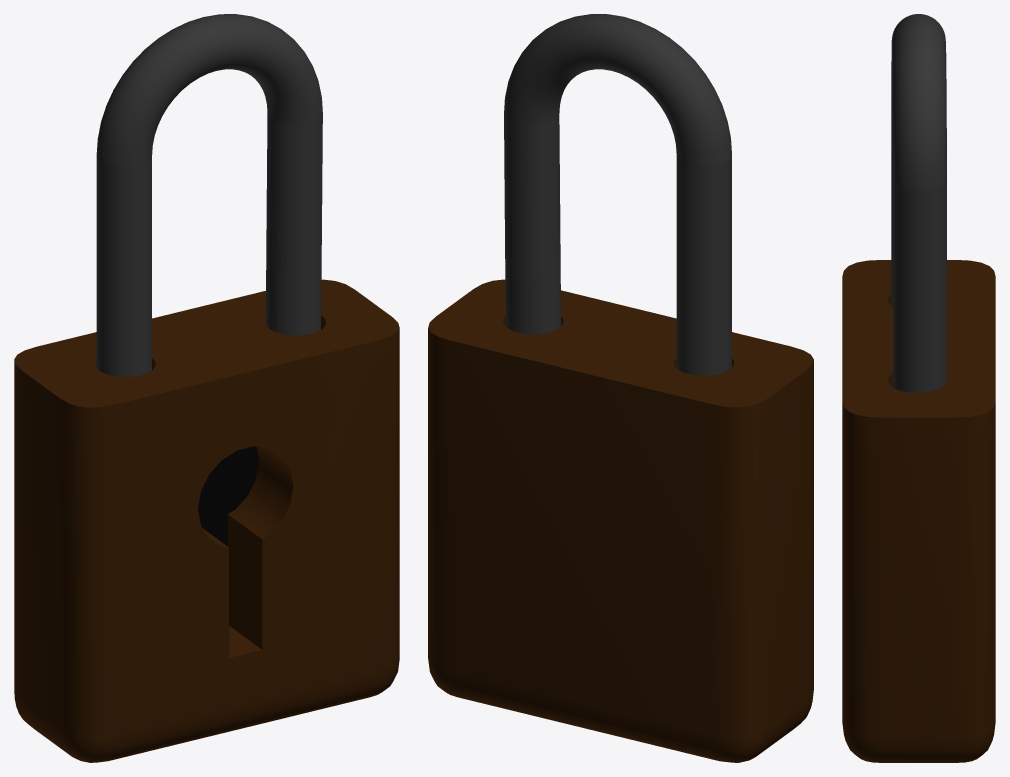
Rendered from Gold Lock improved.fbx.
3 views of the same model, side by side, from view 1: azimuth 30°, elevation 25°; view 2: azimuth 150°, elevation 25°; view 3: azimuth 270°, elevation 25° (orthographic). The views are drawn at different scales.
Visible parts, largest first — view 1: Box001, Cylinder001, Plane001; view 2: Box001, Cylinder001; view 3: Box001, Cylinder001.
Boxes of the visible parts, <box> form: Box001: <box>14,279,399,762</box>; Cylinder001: <box>96,14,322,377</box>; Plane001: <box>198,446,258,546</box>; Box001: <box>428,279,813,762</box>; Cylinder001: <box>504,14,731,375</box>; Box001: <box>842,260,995,762</box>; Cylinder001: <box>891,14,946,392</box>.
Size of the model in its own units: 20.74 by 41.22 by 8.53.
